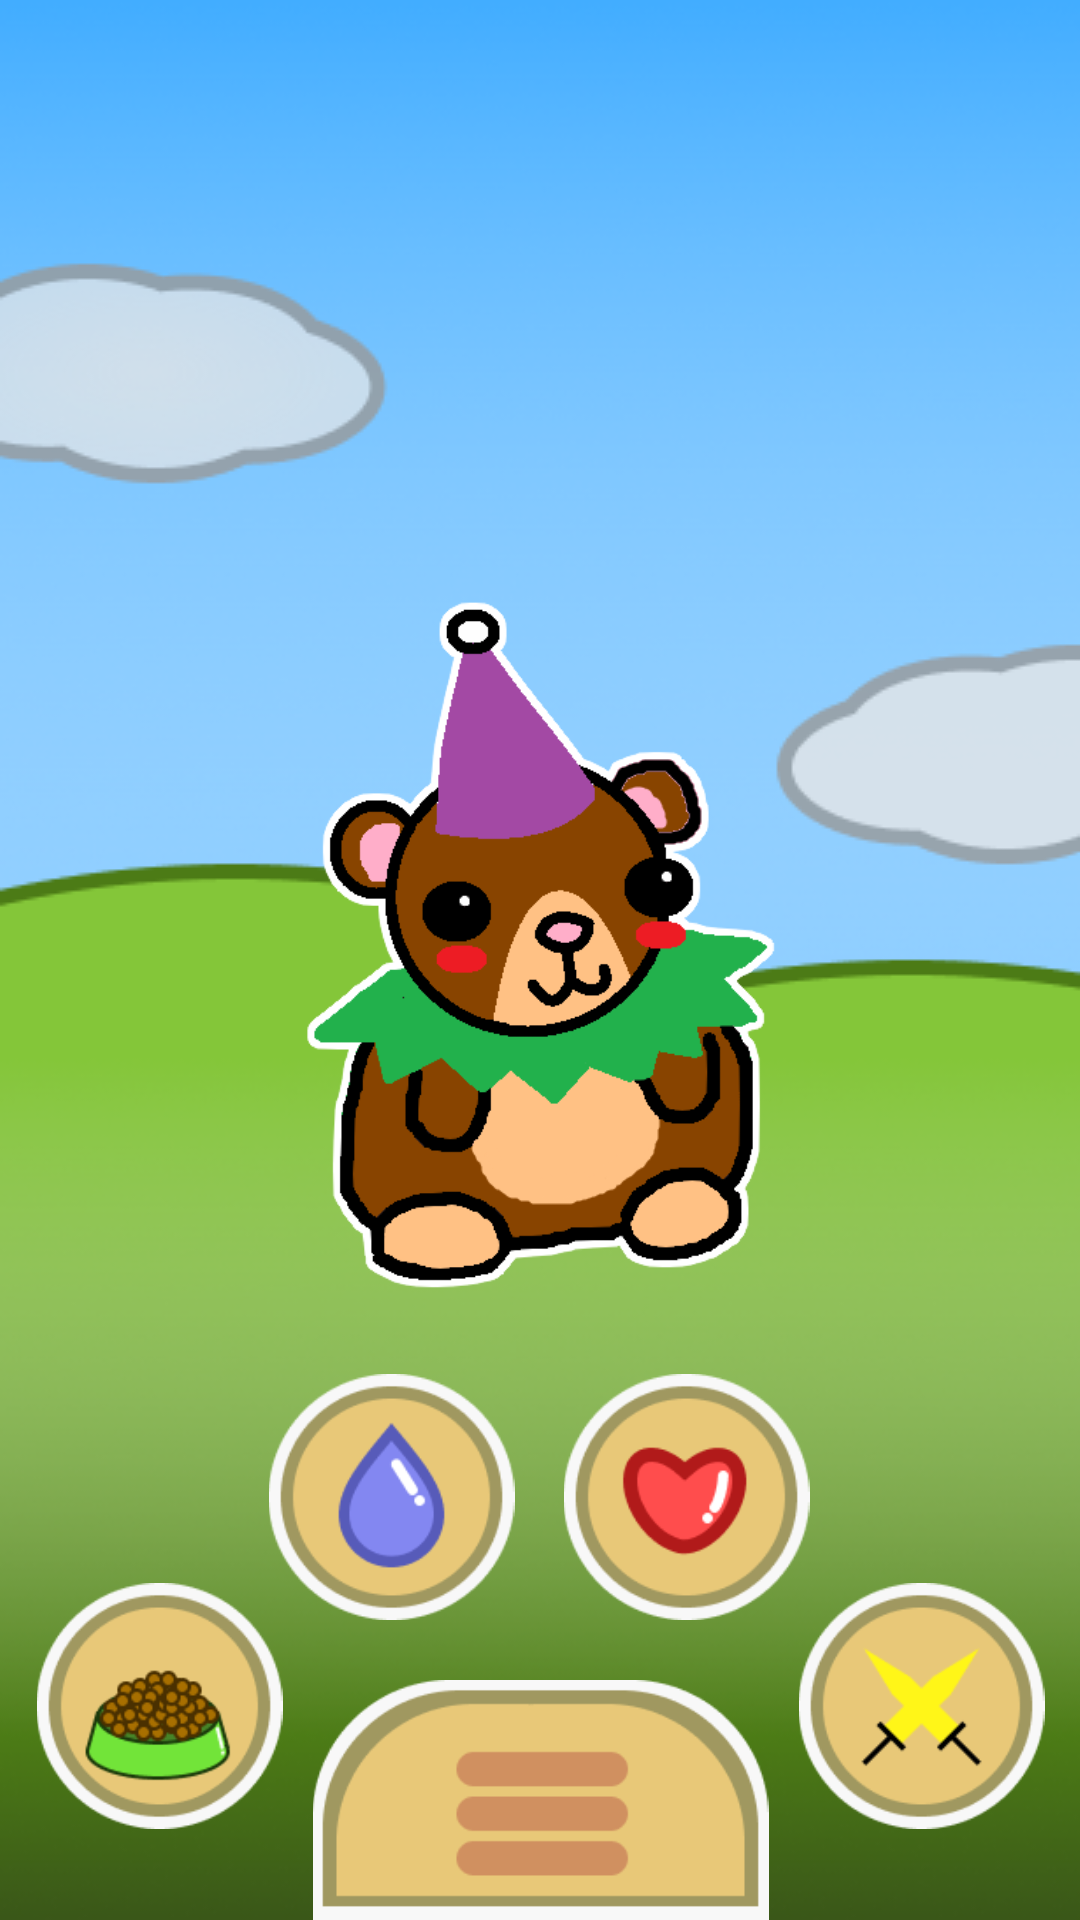

Point at icon controls on the screen. Image size 1080 x 1920, points as (x=x, y=y).
Care: (x=686, y=1497)
Fight: (x=921, y=1706)
Food: (x=159, y=1706)
Water: (x=391, y=1497)
